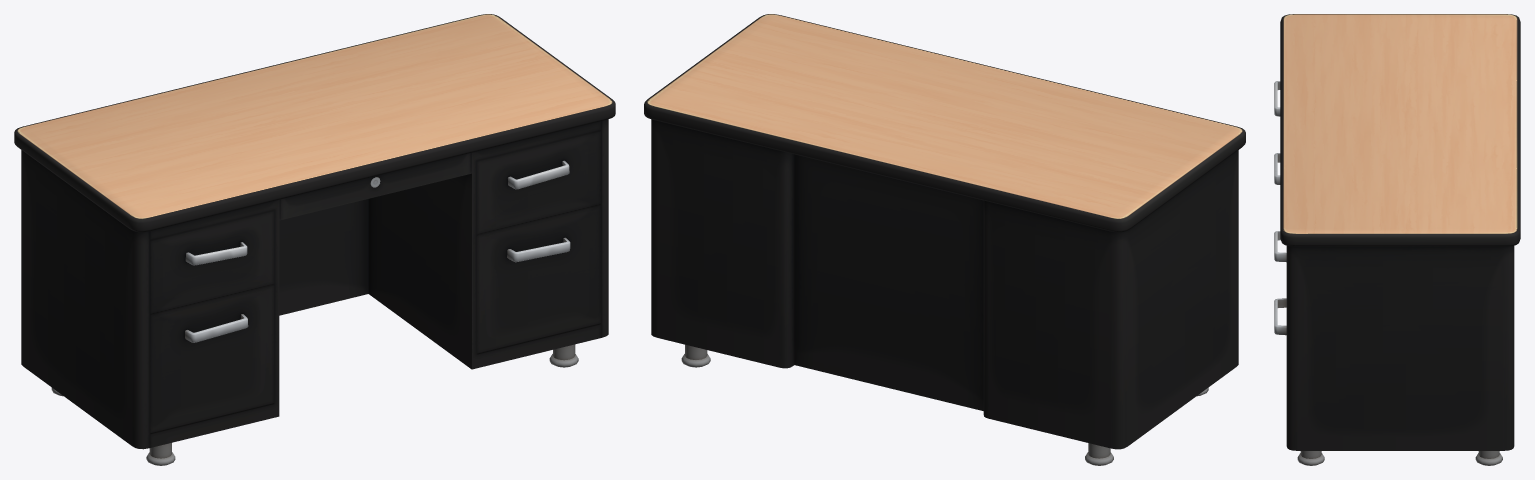
File: OfficeDesk01.FBX
3 renders of one model, left to right at view 1: azimuth 30°, elevation 25°; view 2: azimuth 150°, elevation 25°; view 3: azimuth 270°, elevation 25°, orthographic. The views are drawn at different scales.
Visible parts, largest first — view 1: OfficeDesk01; view 2: OfficeDesk01; view 3: OfficeDesk01.
Boxes of the visible parts, box(x1,y1,x2,y2) form: OfficeDesk01: box(14, 14, 615, 465); OfficeDesk01: box(644, 14, 1245, 465); OfficeDesk01: box(1274, 14, 1520, 465).
Size of what is drawn, in the model's own units: 1.75 by 0.9 by 0.82.
